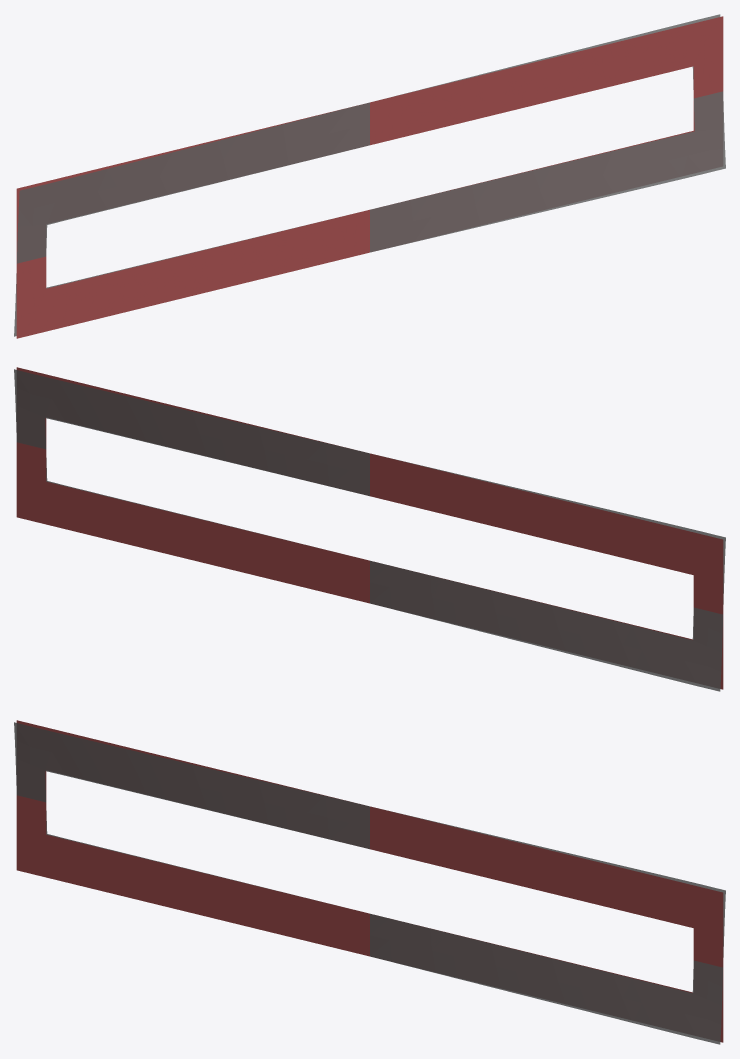
File: warping-box-39-192-11-8-222.glb
3 renders of one model, top to bottom at view 1: azimuth 30°, elevation 25°; view 2: azimuth 150°, elevation 25°; view 3: azimuth 330°, elevation 25°, orthographic.
Visible parts, largest first — view 1: undeformed cross-section, cross-section with warping; view 2: undeformed cross-section, cross-section with warping; view 3: undeformed cross-section, cross-section with warping.
Part boxes in pixels (x1=…): undeformed cross-section: x1=16, y1=16, x2=723, y2=338; cross-section with warping: x1=14, y1=14, x2=725, y2=336; undeformed cross-section: x1=16, y1=367, x2=723, y2=689; cross-section with warping: x1=14, y1=369, x2=725, y2=691; undeformed cross-section: x1=16, y1=720, x2=723, y2=1042; cross-section with warping: x1=14, y1=722, x2=725, y2=1044.
Size of the model in its own units: 0.192 by 0.039 by 0.00271.
